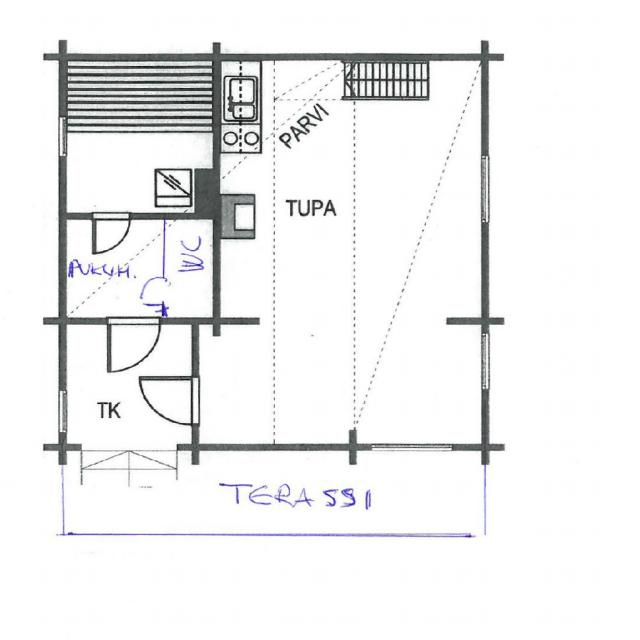door: (108, 316, 160, 372), (142, 378, 200, 423), (92, 212, 129, 254), (128, 278, 169, 309)
